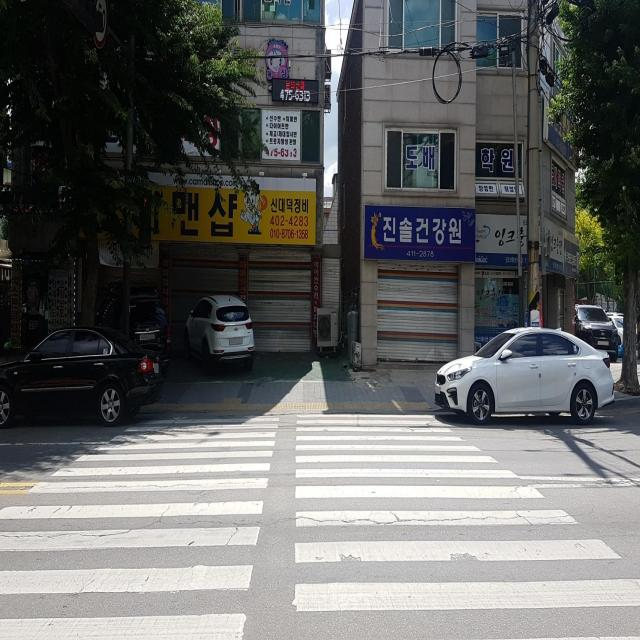횡단보도: (0, 410, 640, 640)
